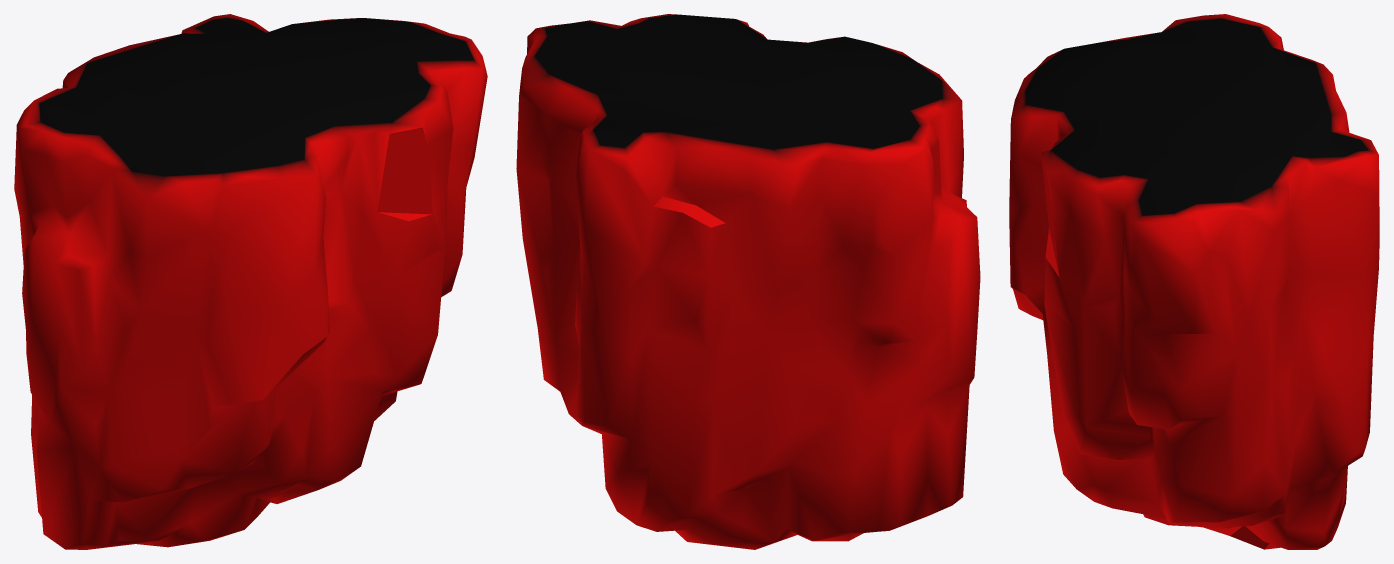
File: SM_Cliff_Large_01.fbx
3 views of the same model, side by side, from view 1: azimuth 30°, elevation 25°; view 2: azimuth 150°, elevation 25°; view 3: azimuth 270°, elevation 25° (orthographic). The views are drawn at different scales.
Visible parts, largest first — view 1: SM_Cliff_Large_01_LOD1; view 2: SM_Cliff_Large_01_LOD1; view 3: SM_Cliff_Large_01_LOD1.
Part boxes in pixels (left/top/right/bottom): SM_Cliff_Large_01_LOD1: left=14, top=14, right=487, bottom=549; SM_Cliff_Large_01_LOD1: left=516, top=14, right=980, bottom=549; SM_Cliff_Large_01_LOD1: left=1009, top=14, right=1379, bottom=549.
Size of the model in its own units: 1716 by 1649 by 1258.
